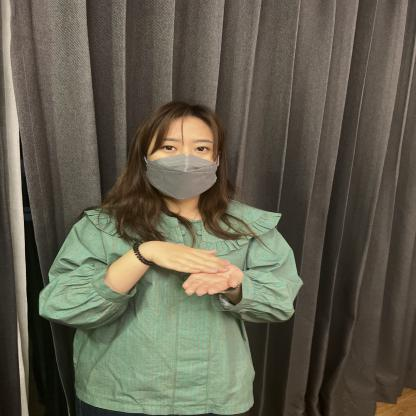Love: (89, 210, 333, 358)
